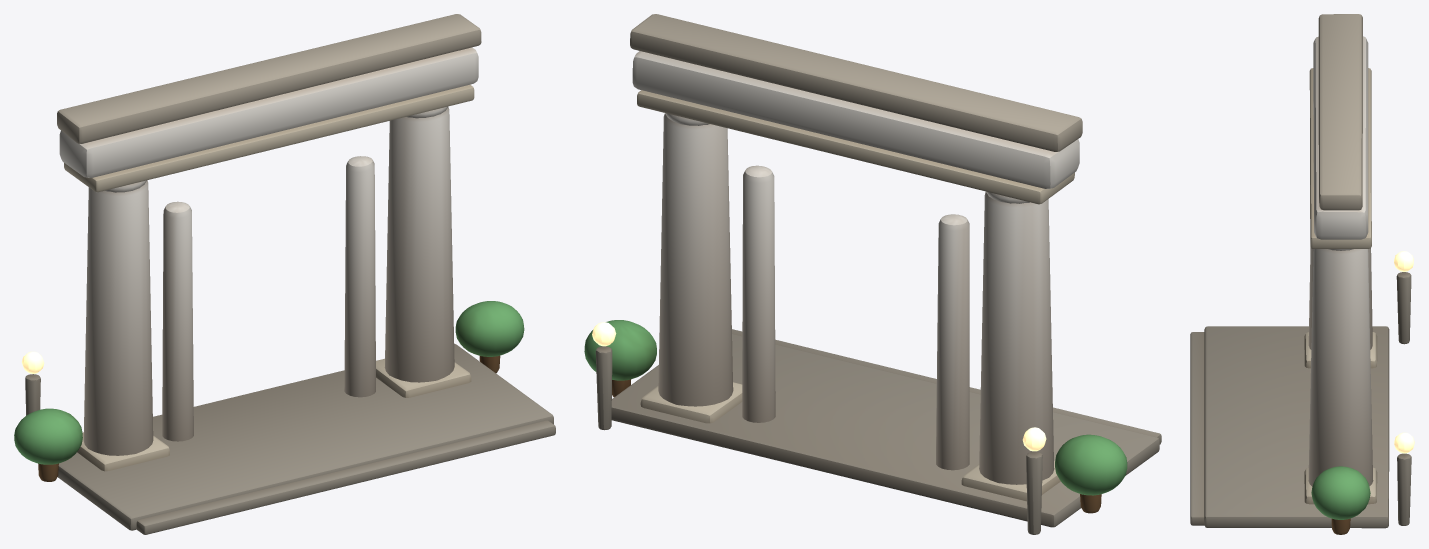
3 renders of one model, left to right at view 1: azimuth 30°, elevation 25°; view 2: azimuth 150°, elevation 25°; view 3: azimuth 270°, elevation 25°, orthographic. The views are drawn at different scales.
Visible parts, largest first — view 1: gate_0ba87809; view 2: gate_0ba87809; view 3: gate_0ba87809.
Boxes of the visible parts, left/top/right/bottom form: gate_0ba87809: left=14, top=14, right=555, bottom=534; gate_0ba87809: left=584, top=14, right=1161, bottom=534; gate_0ba87809: left=1190, top=14, right=1414, bottom=534.
Size of the model in its own units: 6.09 by 4.15 by 2.55.
